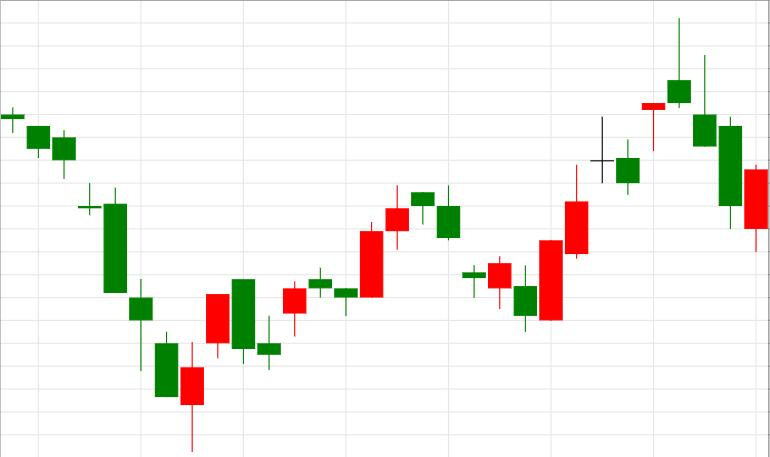shooting_star_fall: (539, 18, 691, 321)
